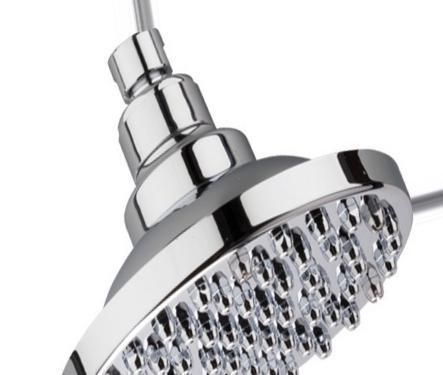Ducha: (49, 2, 442, 374)
